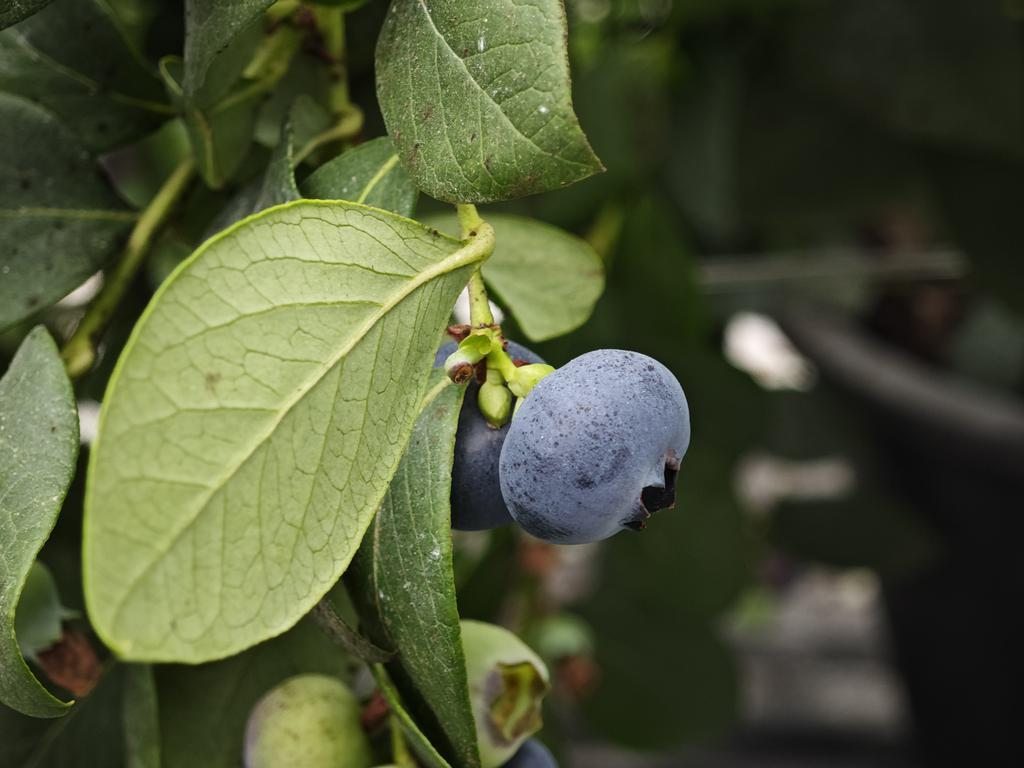RipeBlueBerry: (502, 347, 690, 543)
